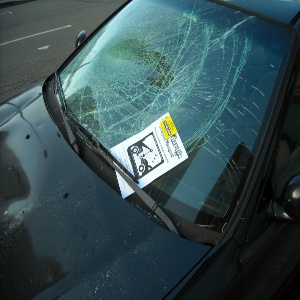front_windshield_glass: (93, 17, 255, 112)
